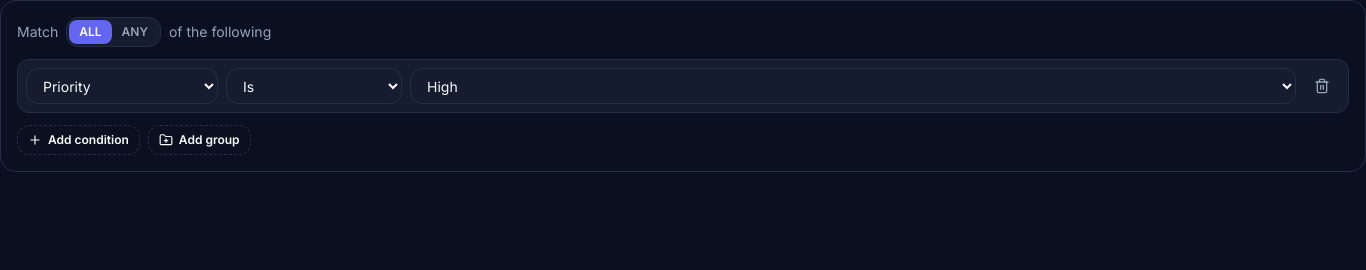
Test: ConditionBuilder › adds and removes conditions
Click the button "Add condition". click: click(78, 140)
box: 17,125 -> 140,155
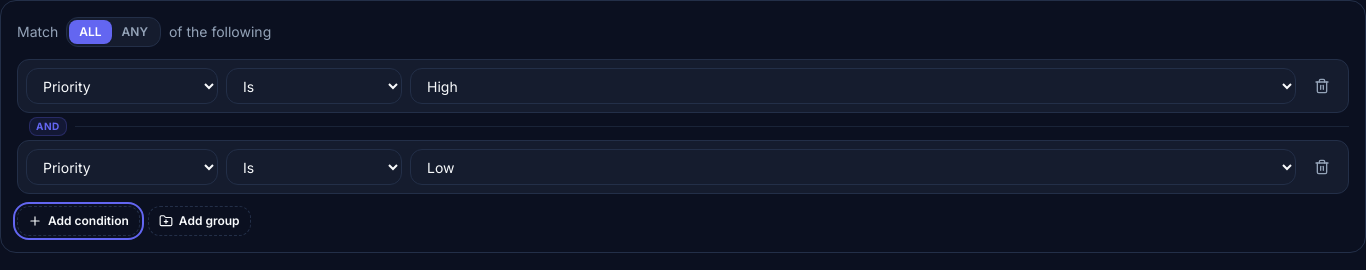
Expected: the number of elements with test id "condition-row" is 2, 17,59 -> 1349,113; 17,140 -> 1349,194
Click the 1st button named "remove condition". click: click(1322, 86)
box: 1304,68 -> 1340,104
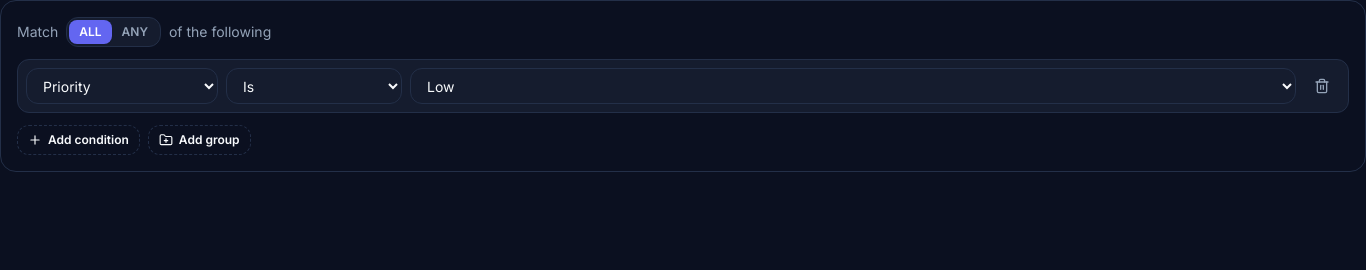
Expected: the number of elements with test id "condition-row" is 1, 17,59 -> 1349,113
